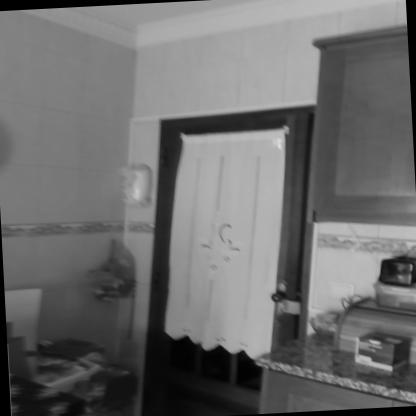closed: (140, 92, 328, 400)
